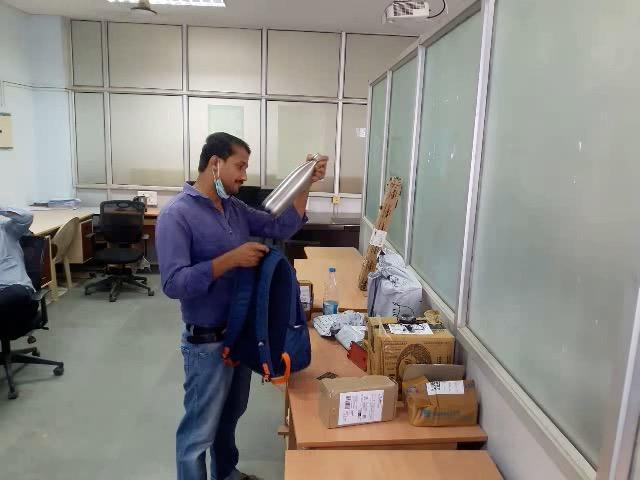shoplifting: (103, 181, 392, 402)
